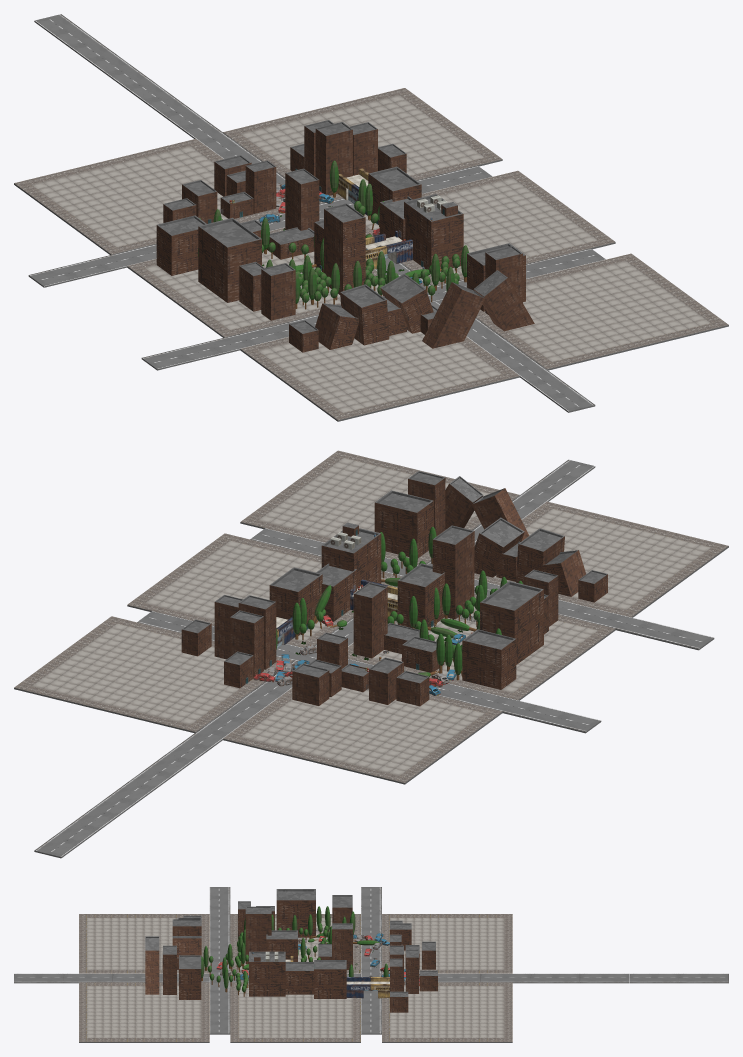
Rendered from NewCity.fbx.
3 renders of one model, top to bottom at view 1: azimuth 30°, elevation 25°; view 2: azimuth 150°, elevation 25°; view 3: azimuth 270°, elevation 25°, orthographic. The views are drawn at different scales.
Parts seen in each view (by area): view 1: Floor2, Floor1, Floor5, Floor4, Floor3, Road1, Floor6, Road3, Building19, Road, Road2, Building17 (+25 smaller); view 2: Floor4, Floor5, Floor1, Floor2, Floor3, Road1, Floor6, Road3, Road, Building19, Building27, Building23 (+27 smaller); view 3: Floor2, Floor4, Floor3, Floor5, Floor1, Road1, Road3, Road, Road2, Building19, Building17, Floor6 (+19 smaller).
Boxes of the visible parts, x1=… form: Floor2: x1=476, y1=253, x2=728, y2=370; Floor1: x1=240, y1=330, x2=519, y2=421; Floor5: x1=14, y1=139, x2=285, y2=254; Floor4: x1=223, y1=88, x2=502, y2=203; Floor3: x1=364, y1=170, x2=615, y2=285; Road1: x1=34, y1=14, x2=320, y2=203; Floor6: x1=127, y1=227, x2=385, y2=337; Road3: x1=141, y1=248, x2=605, y2=370; Building19: x1=198, y1=217, x2=261, y2=302; Road: x1=28, y1=165, x2=492, y2=287; Road2: x1=319, y1=218, x2=595, y2=412; Building17: x1=404, y1=194, x2=463, y2=269; Floor4: x1=14, y1=616, x2=293, y2=733; Floor5: x1=223, y1=687, x2=502, y2=784; Floor1: x1=474, y1=501, x2=728, y2=617; Floor2: x1=240, y1=450, x2=519, y2=565; Floor3: x1=127, y1=533, x2=402, y2=647; Road1: x1=34, y1=661, x2=305, y2=858; Floor6: x1=348, y1=594, x2=615, y2=700; Road3: x1=250, y1=528, x2=714, y2=650; Road: x1=137, y1=611, x2=601, y2=733; Building19: x1=480, y1=581, x2=543, y2=664; Building27: x1=374, y1=490, x2=433, y2=557; Building23: x1=462, y1=629, x2=516, y2=689; Floor2: x1=79, y1=982, x2=209, y2=1042; Floor4: x1=382, y1=982, x2=512, y2=1042; Floor3: x1=230, y1=982, x2=360, y2=1042; Floor5: x1=382, y1=914, x2=512, y2=973; Floor1: x1=79, y1=914, x2=209, y2=973; Road1: x1=382, y1=973, x2=728, y2=983; Road3: x1=209, y1=887, x2=230, y2=1034; Road: x1=361, y1=887, x2=381, y2=1034; Road2: x1=14, y1=973, x2=360, y2=983; Building19: x1=276, y1=889, x2=315, y2=937; Building17: x1=249, y1=951, x2=285, y2=996; Floor6: x1=230, y1=914, x2=360, y2=973.
Size of the model in its own units: 360 by 68.74 by 702.
1 material, 1 textured.
